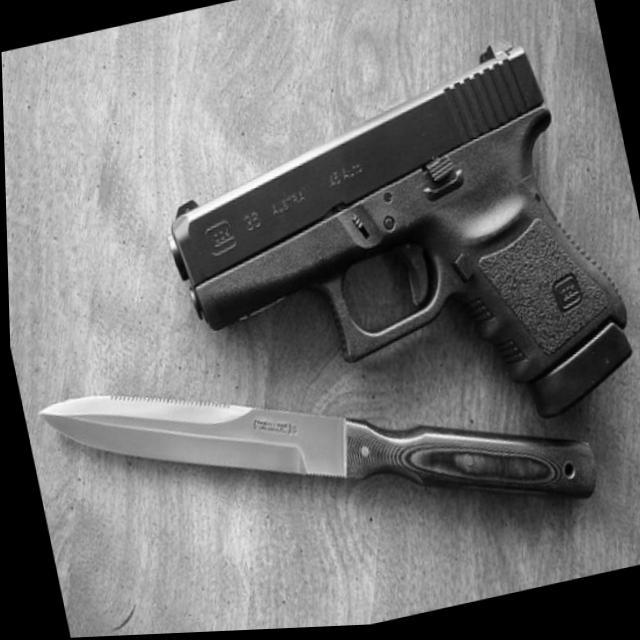weapon: (137, 23, 640, 498), (28, 288, 604, 616)
